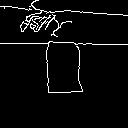cube: (38, 38, 91, 98)
